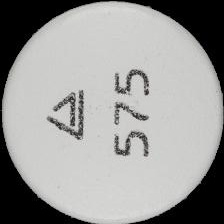54868-2894: (0, 0, 224, 224)
